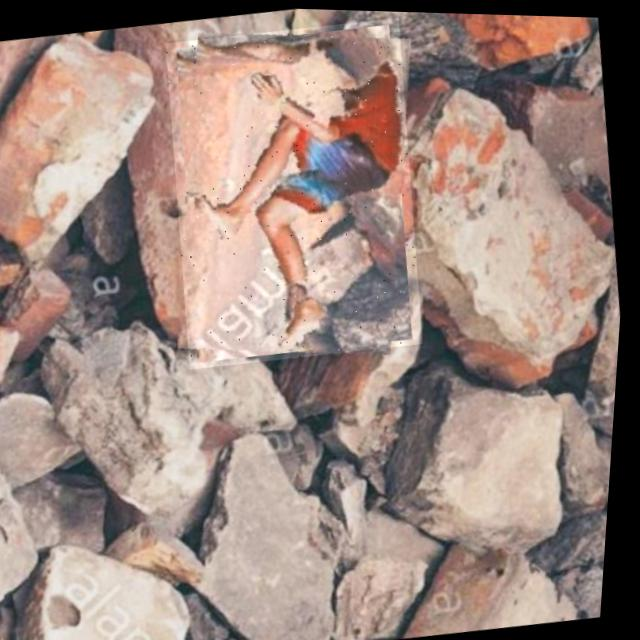Person in Rubble: (148, 10, 443, 373)
